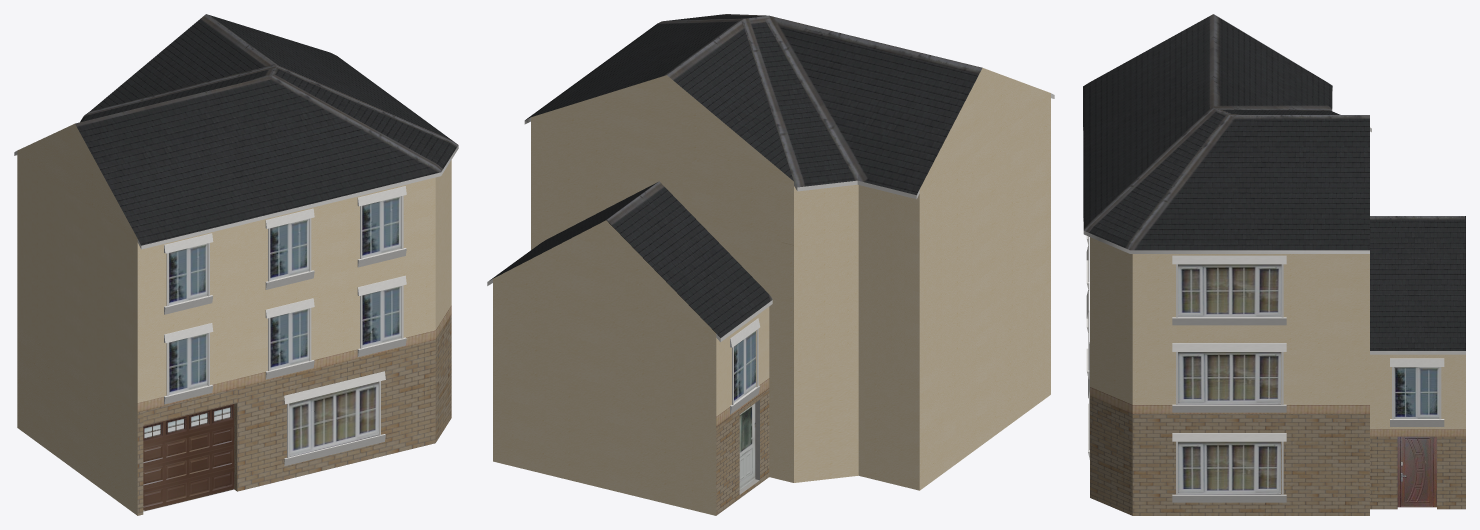
The model's file is terracedcorner3story1b.FBX.
3 views of the same model, side by side, from view 1: azimuth 30°, elevation 25°; view 2: azimuth 150°, elevation 25°; view 3: azimuth 270°, elevation 25° (orthographic). The views are drawn at different scales.
Parts seen in each view (by area): view 1: Box004; view 2: Box004; view 3: Box004.
Boxes of the visible parts, x1,y1,x2,y2 form: Box004: (14,14,458,515); Box004: (487,14,1054,515); Box004: (1083,14,1465,515).
Size of the model in its own units: 1297 by 1258 by 1281.
